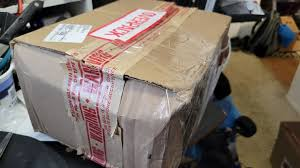damaged package: (150, 27, 223, 164), (110, 73, 130, 153)
